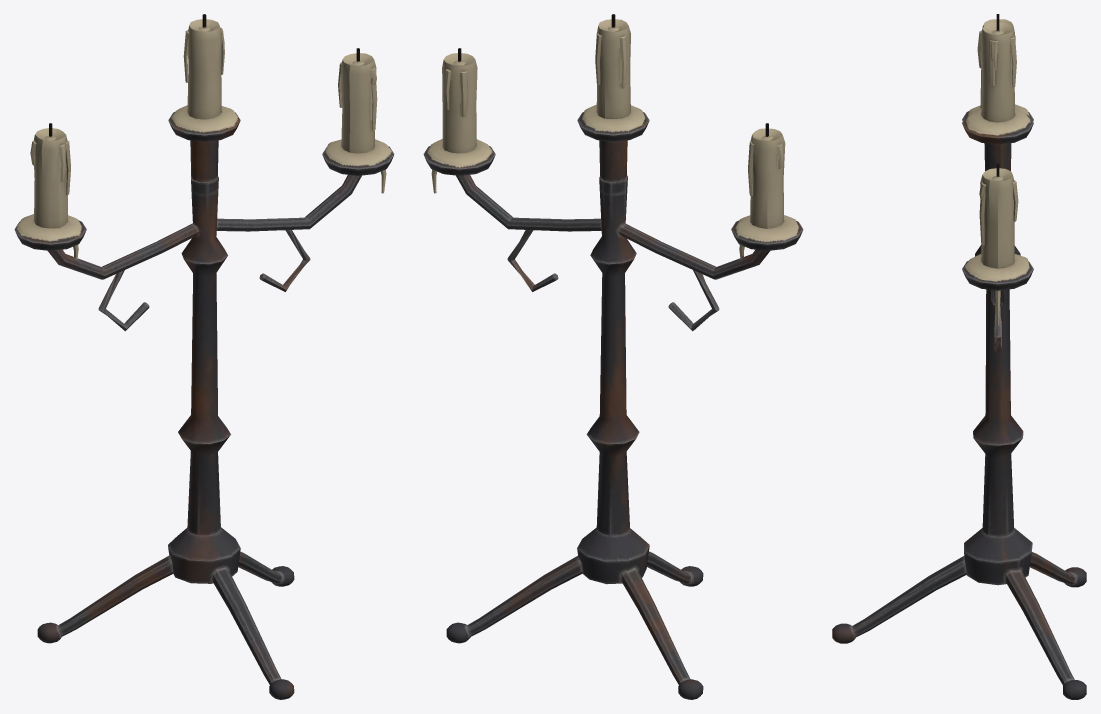
The model's file is candelabra.glb.
3 views of the same model, side by side, from view 1: azimuth 30°, elevation 25°; view 2: azimuth 150°, elevation 25°; view 3: azimuth 270°, elevation 25° (orthographic).
Parts seen in each view (by area): view 1: candelabra; view 2: candelabra; view 3: candelabra.
Part boxes in pixels (box(x1,y1,x2,y2)): candelabra: box(14, 14, 394, 699); candelabra: box(423, 14, 803, 699); candelabra: box(832, 14, 1086, 699).
Size of the model in its own units: 0.65 by 1.05 by 0.3887.
1 material, 1 textured.
